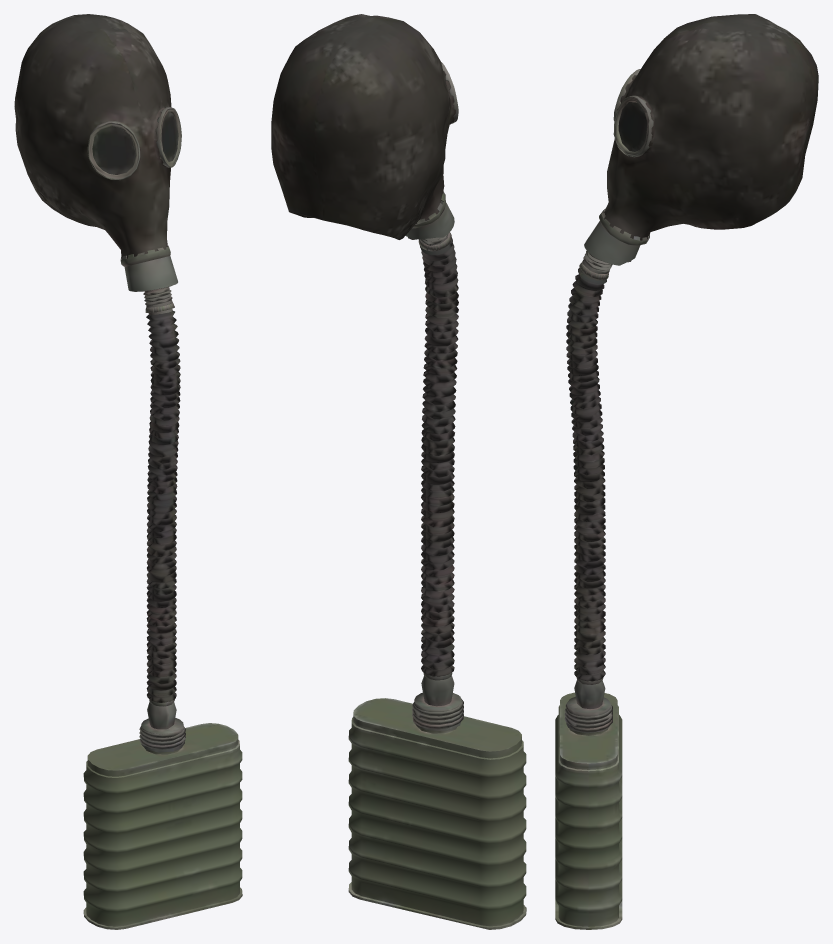
File: old_gas_mask.glb
3 views of the same model, side by side, from view 1: azimuth 30°, elevation 25°; view 2: azimuth 150°, elevation 25°; view 3: azimuth 270°, elevation 25° (orthographic). The views are drawn at different scales.
Visible parts, largest first — view 1: old_gas_mask; view 2: old_gas_mask; view 3: old_gas_mask.
Boxes of the visible parts, left/top/right/bottom form: old_gas_mask: left=14, top=14, right=242, bottom=929; old_gas_mask: left=271, top=14, right=526, bottom=929; old_gas_mask: left=555, top=14, right=818, bottom=929.
Bounding box in the file's own units: 0.2105 × 1.13 × 0.3087.
Materials: 1 (1 with a texture image).
